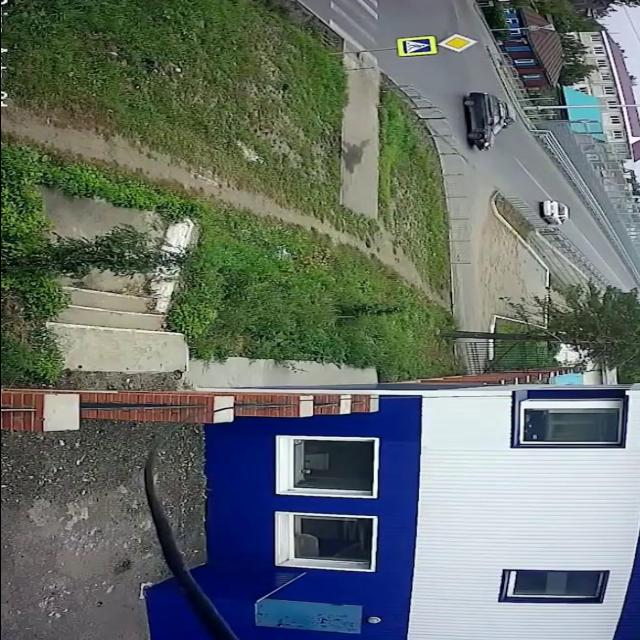accident: (458, 86, 528, 156)
